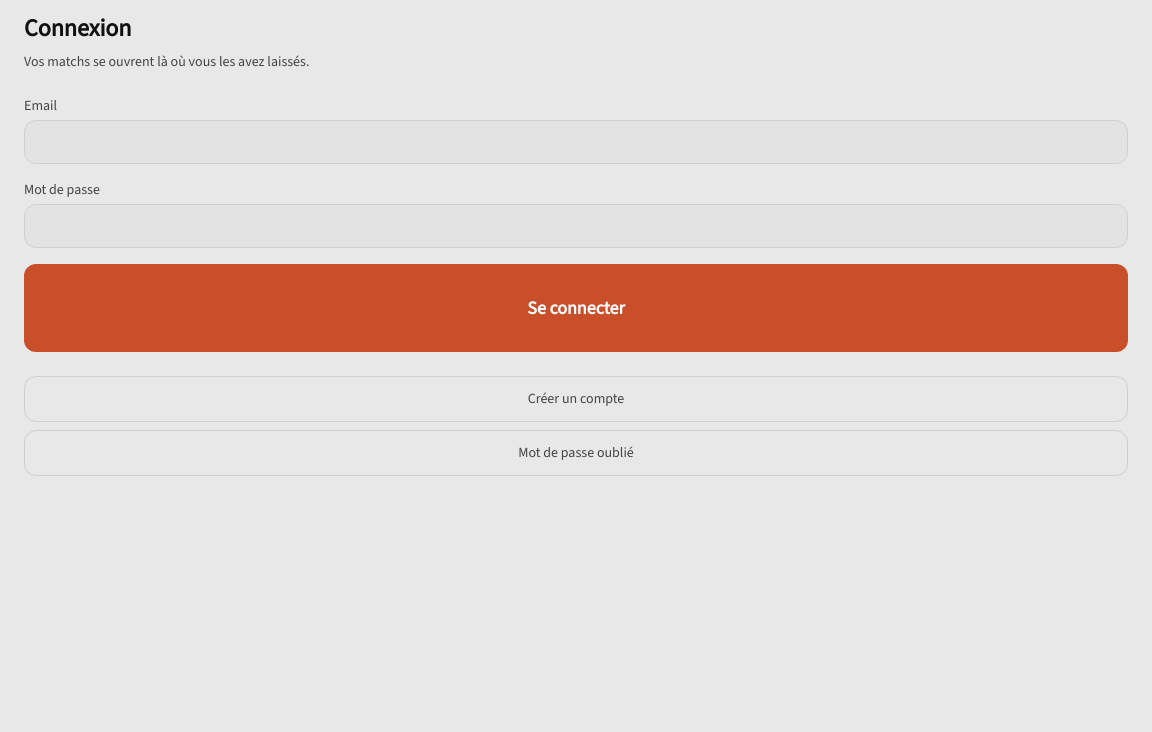
écran d'authentification › inscription : signale l'échec quand la confirmation d'email est active
Click the button "Créer un compte" at (576, 399), box [24,376,1128,422]
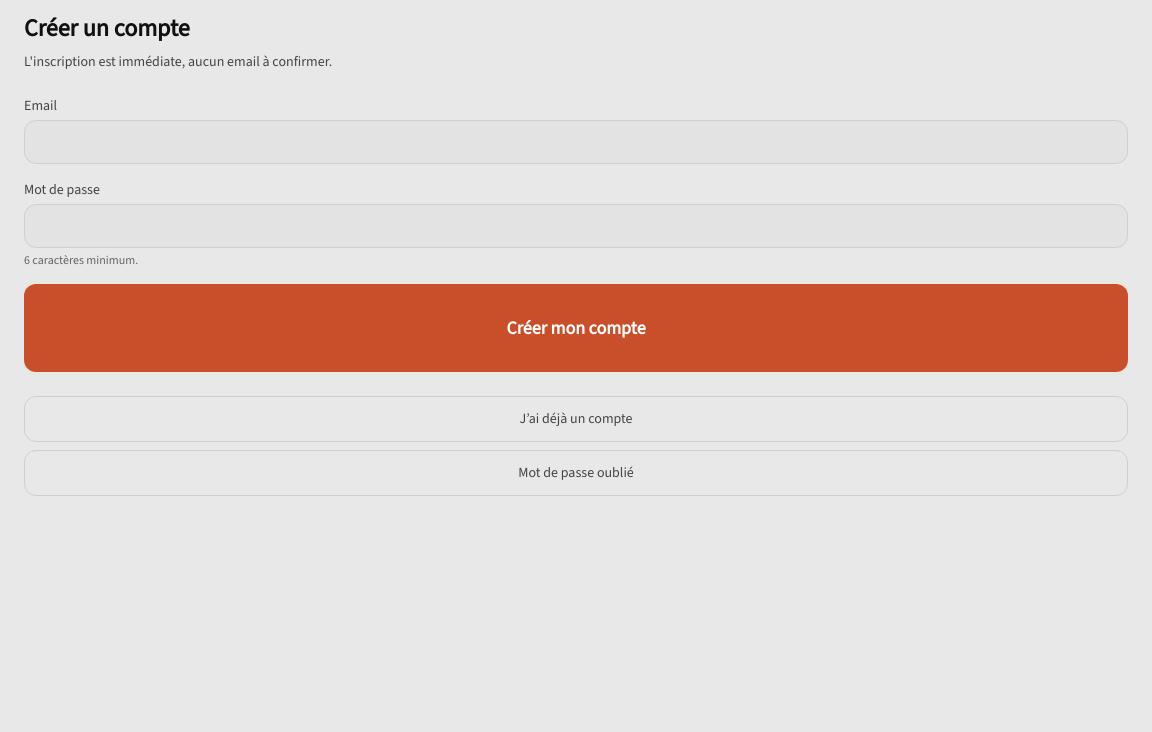
Type "coach@gymnase.fr" into the field labelled "Email" at (576, 142), box [24,120,1128,164]
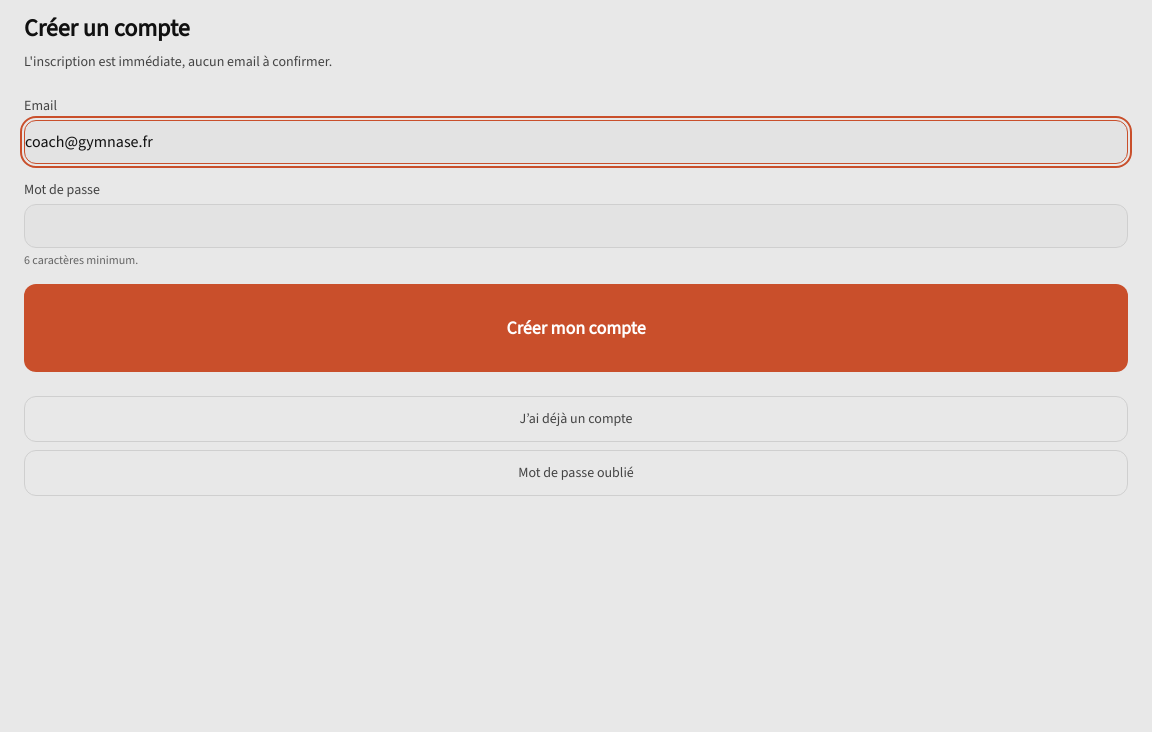
Type "azerty123" into the password field labelled "Mot de passe 6 caractères minimum." at (576, 226), box [24,204,1128,248]
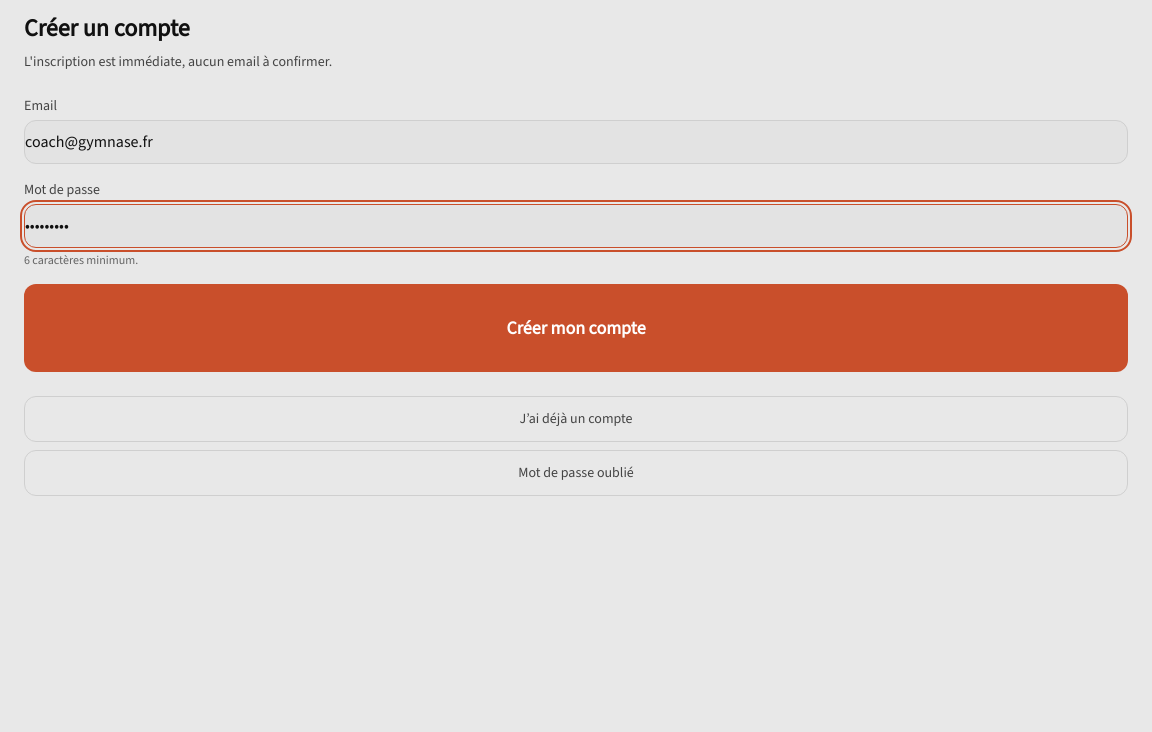
Click the button "Créer mon compte" at (576, 328), box [24,284,1128,372]
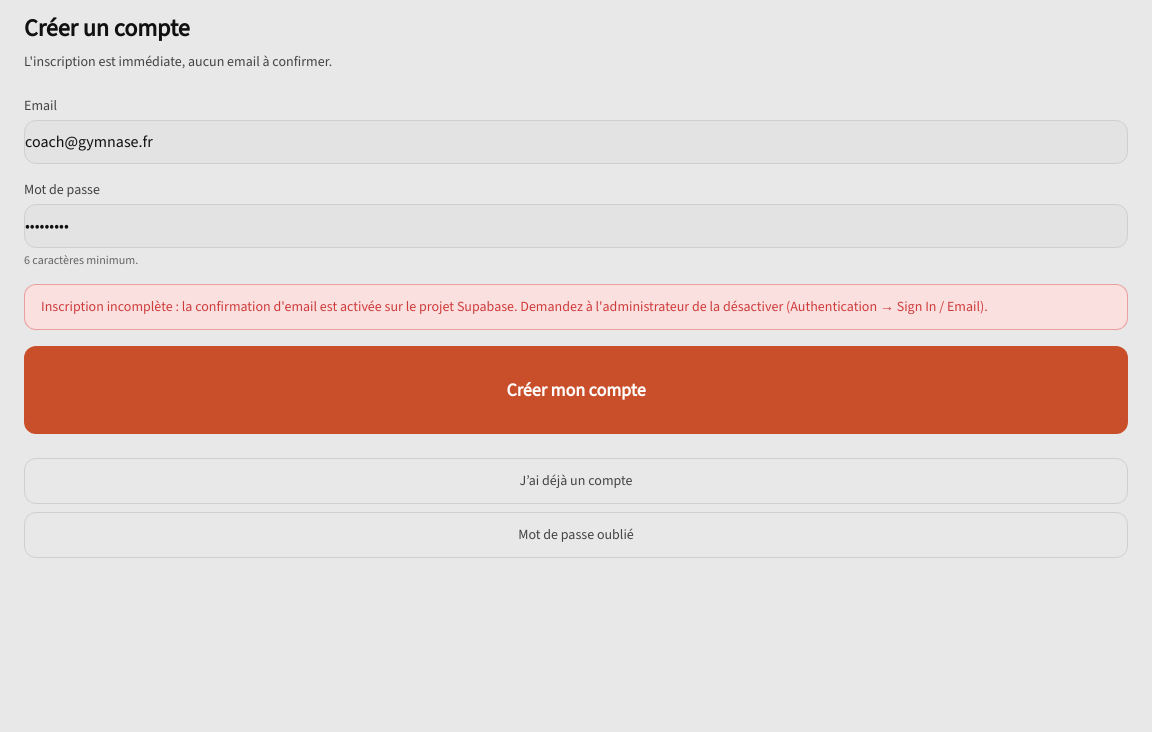
Expected: the message shows "confirmation d'email est activée", [41,297,988,316]
